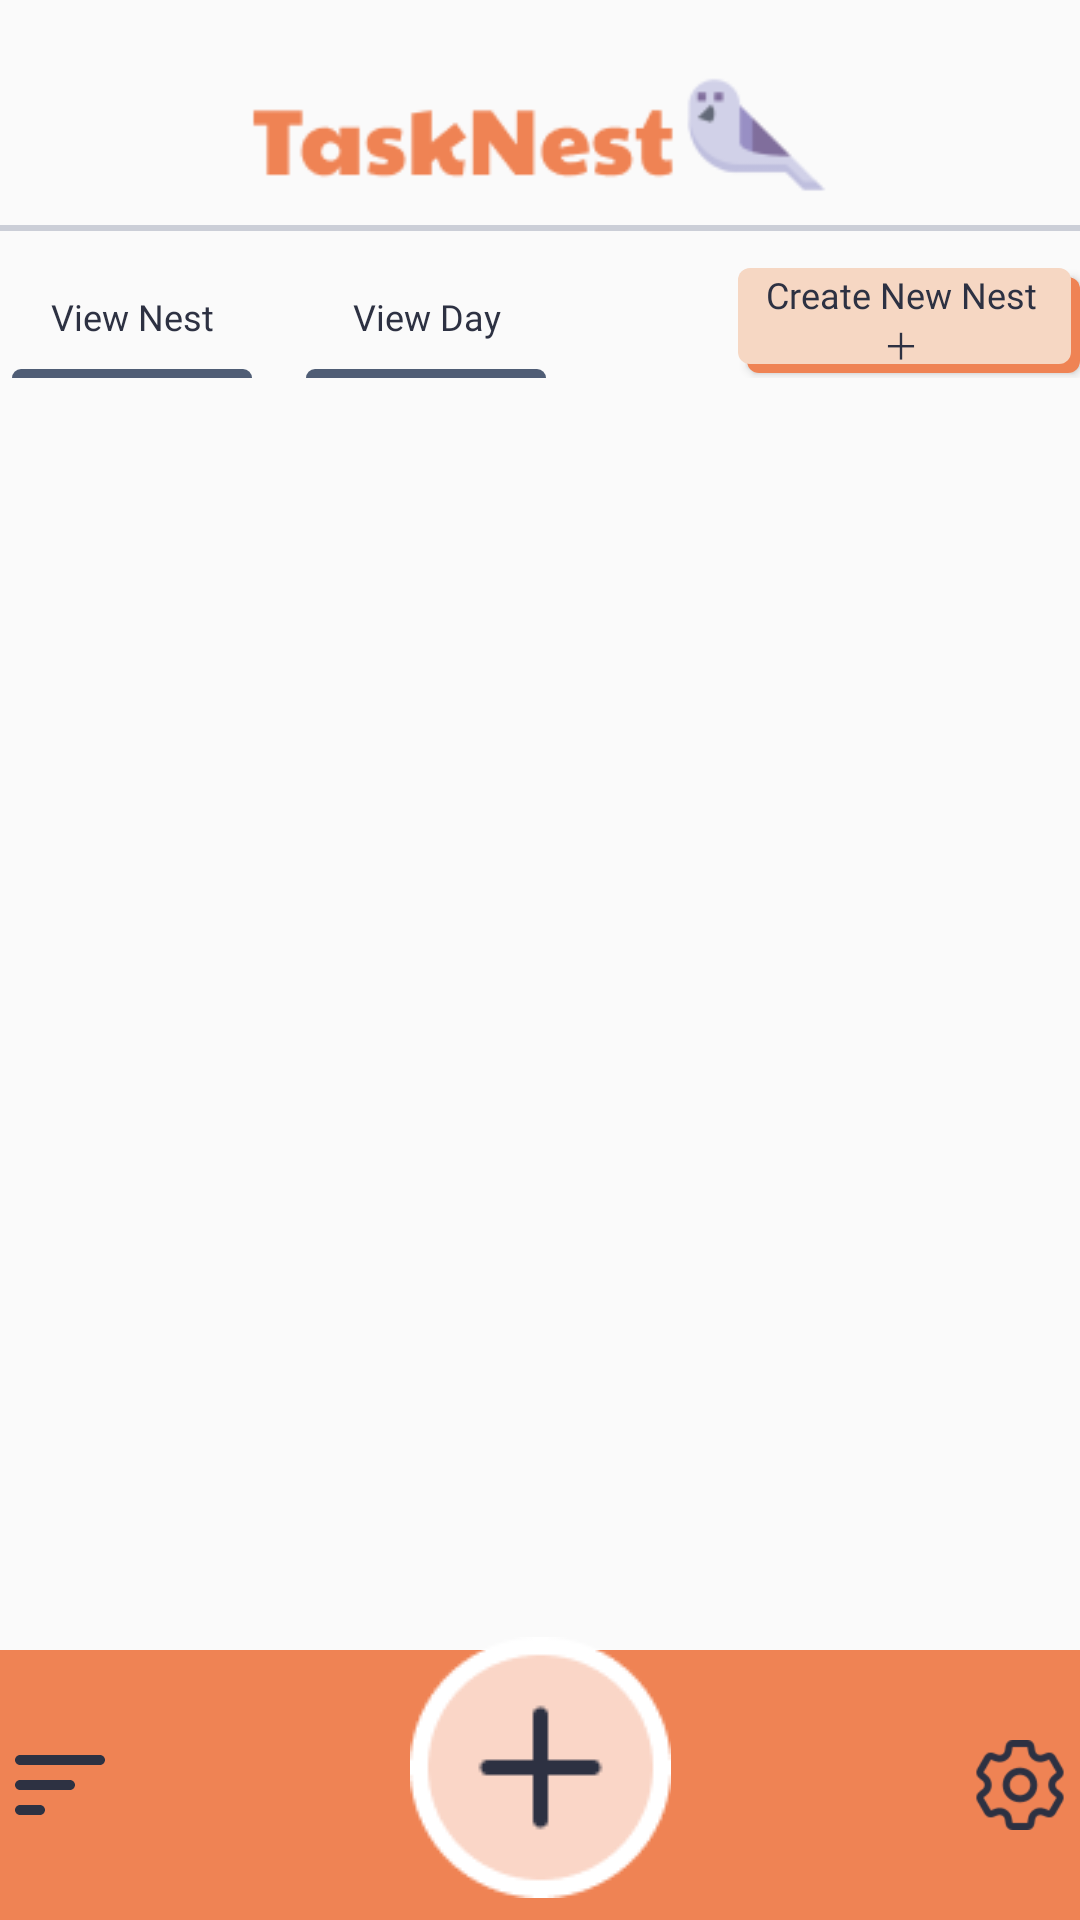

Named icons in this screenshot (1080x1920) and their centers, point (x, y):
add task: point (540, 1767)
settings: point (1020, 1785)
sort: point (60, 1785)
